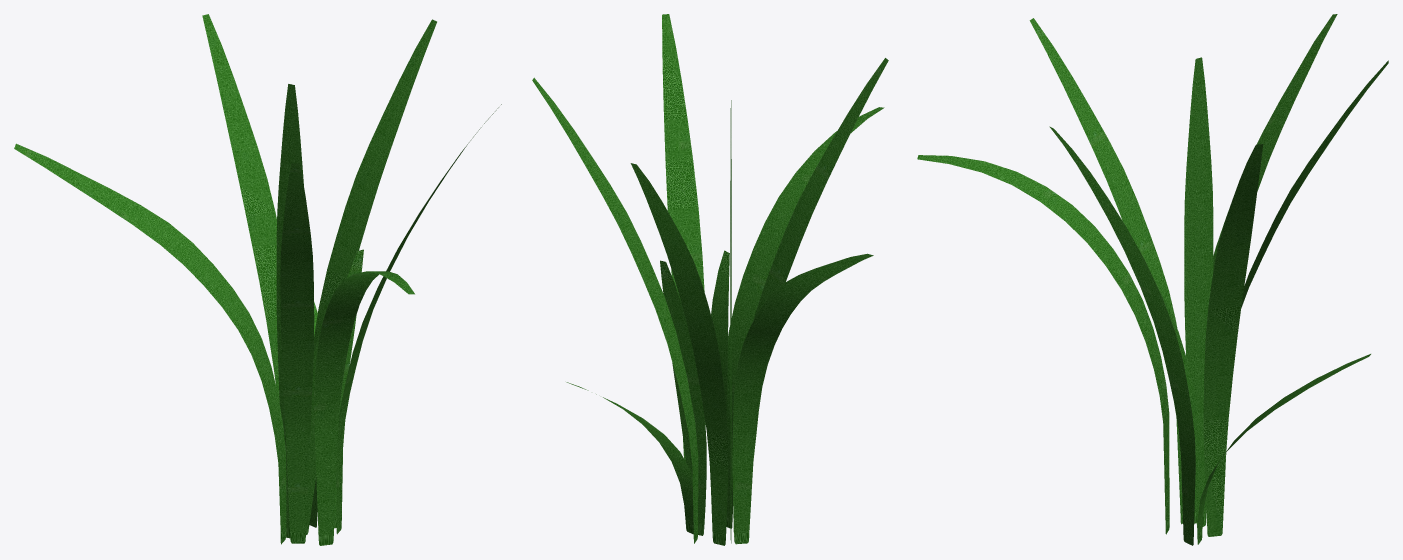
The model's file is Grass_v03.glb.
3 views of the same model, side by side, from view 1: azimuth 30°, elevation 25°; view 2: azimuth 150°, elevation 25°; view 3: azimuth 270°, elevation 25° (orthographic). The views are drawn at different scales.
Visible parts, largest first — view 1: SM_MeadowGrass; view 2: SM_MeadowGrass; view 3: SM_MeadowGrass.
Part boxes in pixels (bbox=[...]): SM_MeadowGrass: bbox=[14, 14, 501, 545]; SM_MeadowGrass: bbox=[532, 14, 888, 545]; SM_MeadowGrass: bbox=[917, 14, 1388, 545].
Size of the model in its own units: 0.3017 by 0.3397 by 0.3125.
1 material, 1 textured.
